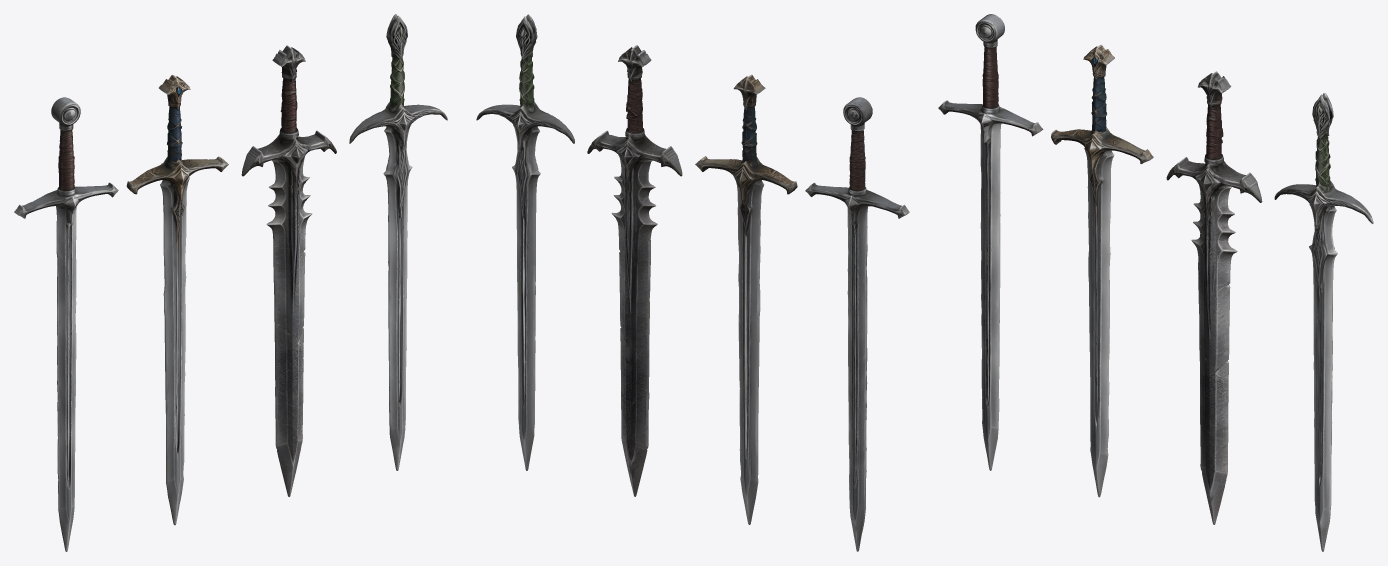
Rendered from swords_2h_1_source.glb.
3 renders of one model, left to right at view 1: azimuth 30°, elevation 25°; view 2: azimuth 150°, elevation 25°; view 3: azimuth 330°, elevation 25°, orthographic.
Visible parts, largest first — view 1: tripo_node_0eef381e-46a5-4f63-9203-09834f716939; view 2: tripo_node_0eef381e-46a5-4f63-9203-09834f716939; view 3: tripo_node_0eef381e-46a5-4f63-9203-09834f716939.
Part boxes in pixels (left/top/right/bottom): tripo_node_0eef381e-46a5-4f63-9203-09834f716939: left=14, top=14, right=447, bottom=551; tripo_node_0eef381e-46a5-4f63-9203-09834f716939: left=476, top=14, right=909, bottom=551; tripo_node_0eef381e-46a5-4f63-9203-09834f716939: left=938, top=14, right=1373, bottom=551.
Size of the model in its own units: 0.9886 by 1 by 0.083.
Materials: 1 (1 with a texture image).
